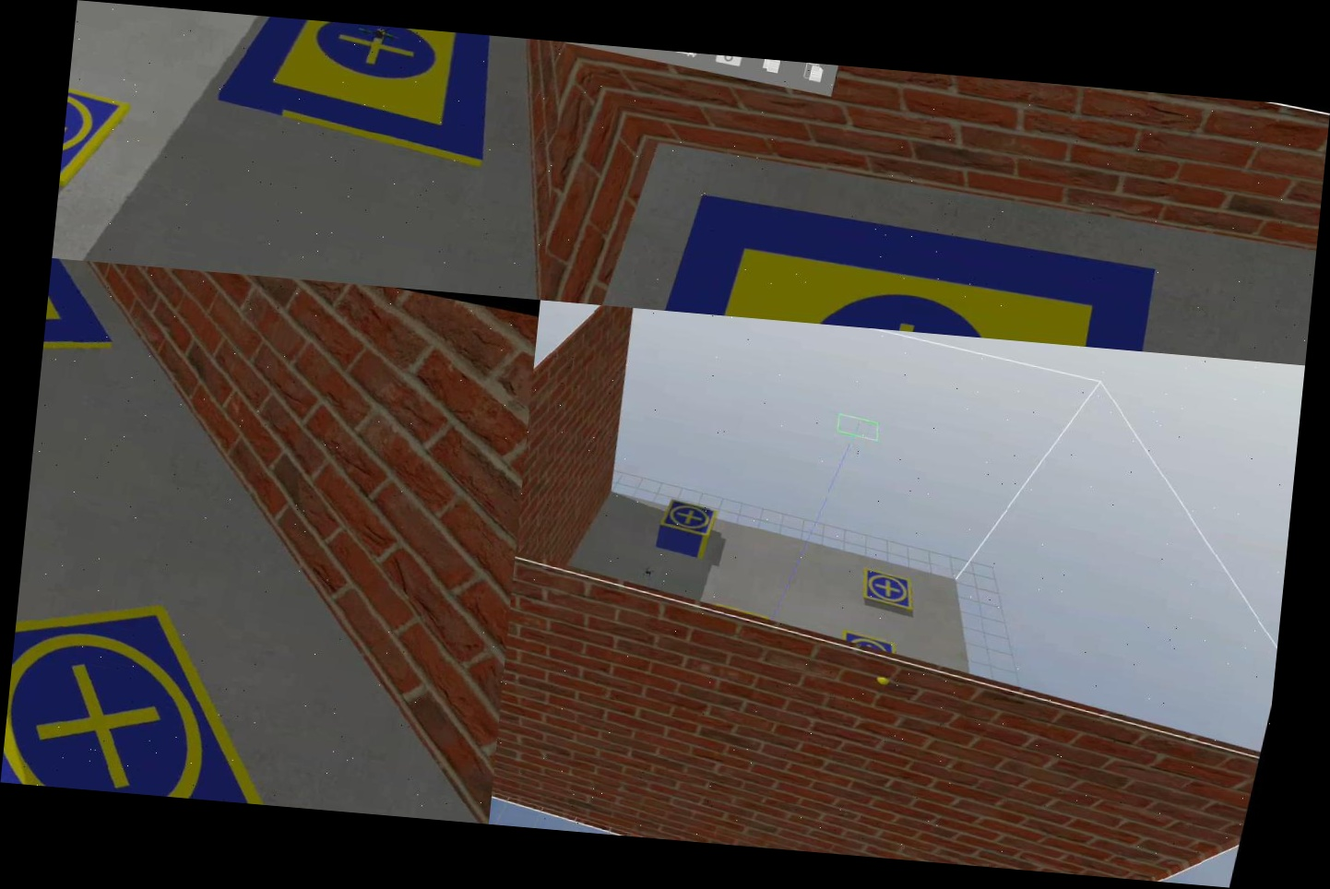large_base: (625, 169, 1188, 354), (209, 13, 514, 167), (39, 258, 137, 397)
small_base: (0, 565, 324, 808), (58, 62, 134, 198), (855, 565, 922, 615), (659, 495, 721, 540), (839, 630, 899, 657)
